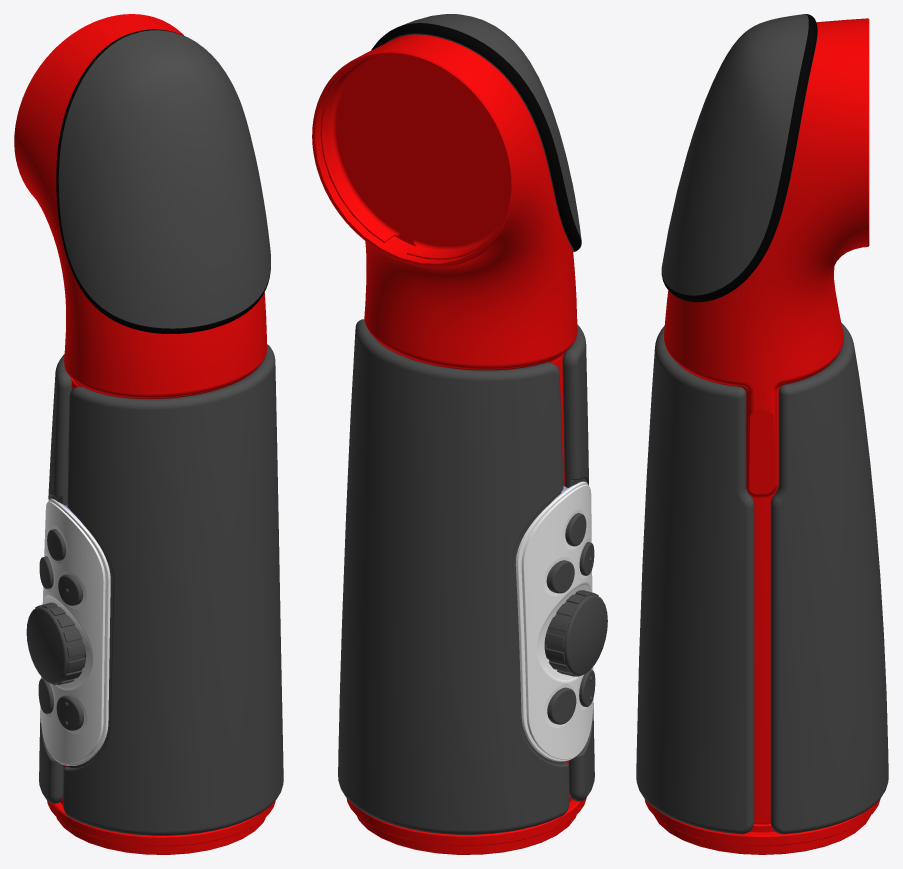
3 views of the same model, side by side, from view 1: azimuth 30°, elevation 25°; view 2: azimuth 150°, elevation 25°; view 3: azimuth 270°, elevation 25° (orthographic). The views are drawn at different scales.
Parts seen in each view (by area): view 1: _3DGeom_694, _3DGeom_695, _3DGeom_698, _3DGeom_696; view 2: _3DGeom_694, _3DGeom_695, _3DGeom_698, _3DGeom_696; view 3: _3DGeom_694, _3DGeom_695, _3DGeom_696.
Part boxes in pixels (<box>): _3DGeom_694: <box>26,30,283,835</box>; _3DGeom_695: <box>14,14,275,854</box>; _3DGeom_698: <box>40,498,110,765</box>; _3DGeom_696: <box>56,29,270,333</box>; _3DGeom_694: <box>338,14,607,834</box>; _3DGeom_695: <box>312,34,586,854</box>; _3DGeom_698: <box>515,481,593,761</box>; _3DGeom_696: <box>371,23,581,251</box>; _3DGeom_694: <box>636,14,888,834</box>; _3DGeom_695: <box>644,18,880,854</box>; _3DGeom_696: <box>661,14,817,302</box>.
Bounding box in the file's own units: 0.0995 × 0.0939 × 0.3222.
